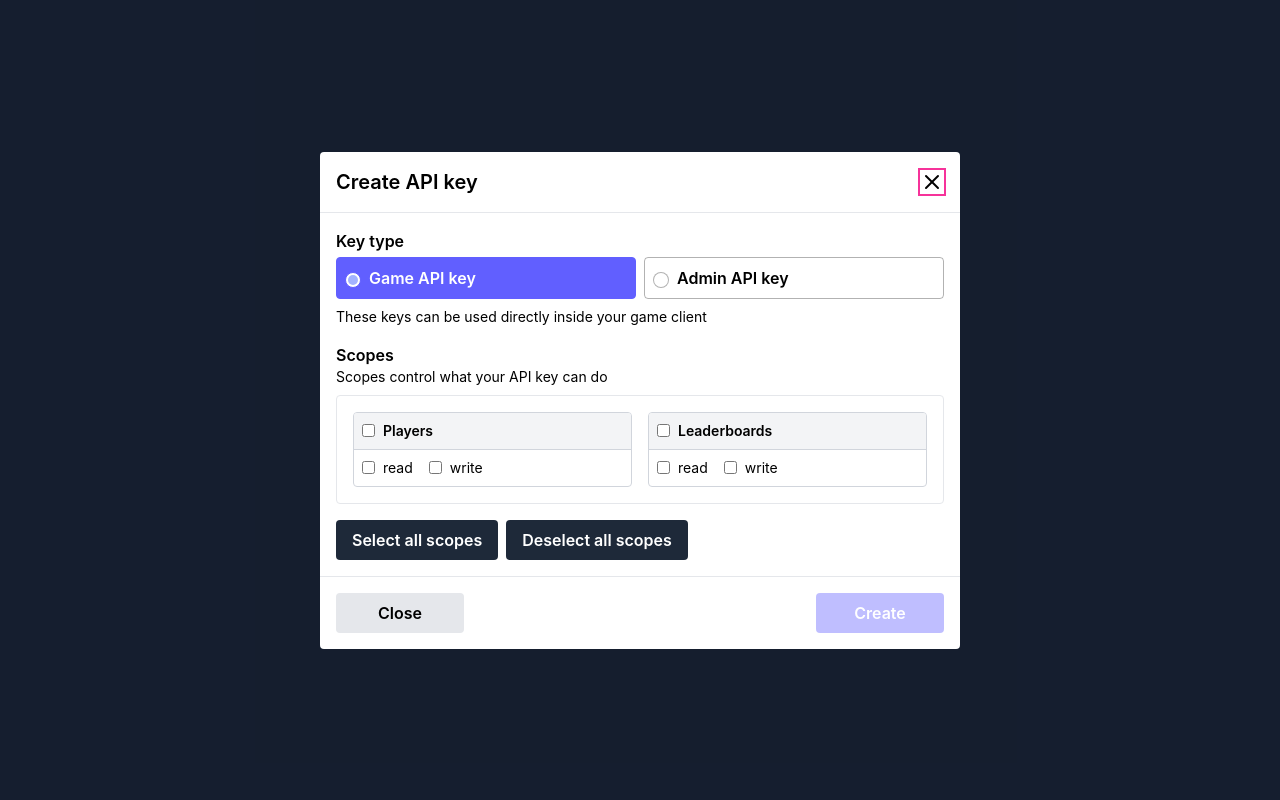
<APIKeyDetails /> › should switch the description and scope list when switching to admin API key in create mode
Step 1. Click the checkbox showing "read:leaderboards" below "Leaderboards" → [664, 468], box [657,461,670,474]
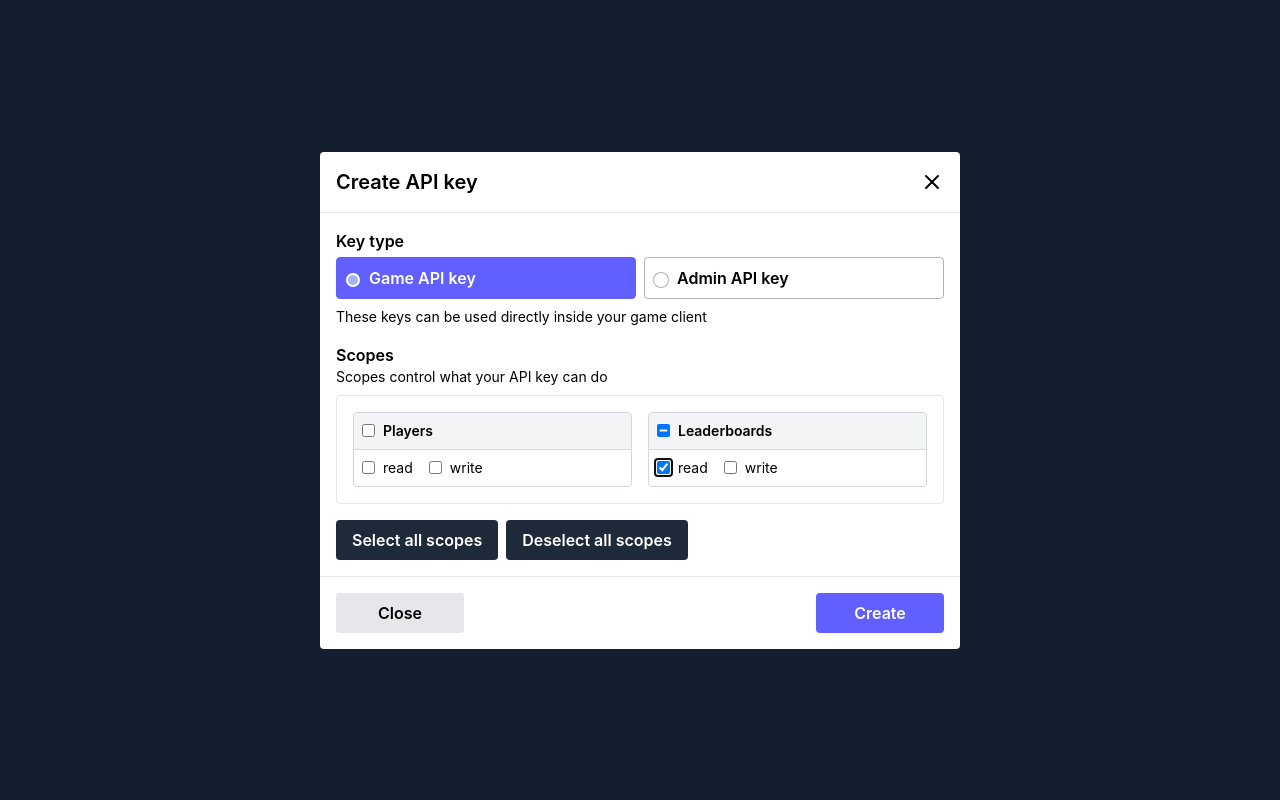
Check: the checkbox showing "read:leaderboards" below "Leaderboards" is checked, box [657,461,670,474]
Step 2. Click the radio button labelled "Admin API key" → [733, 278], box [644,256,944,298]
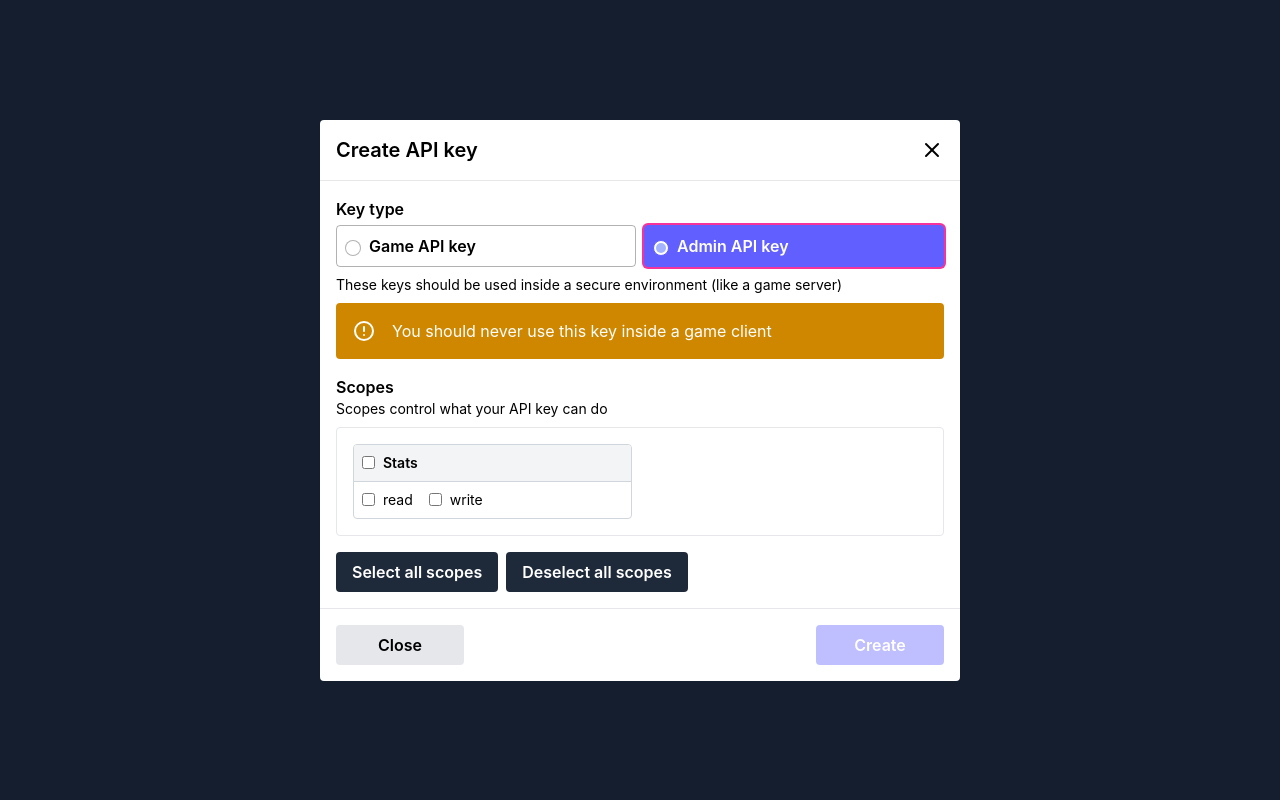
Check: the text "These keys should be used inside a secure environment (like a game server)" is shown, box [336,276,842,292]
Check: the text "These keys can be used directly inside your game client" is gone
Check: the text "You should never use this key inside a game client" is shown, box [392,318,772,342]
